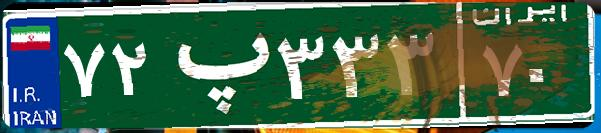0: (525, 38, 570, 115)
2: (110, 28, 158, 105)
3: (385, 28, 445, 110), (273, 28, 330, 110), (330, 28, 385, 110)
7: (57, 26, 110, 107), (475, 38, 525, 113)
پ: (158, 15, 273, 115)
